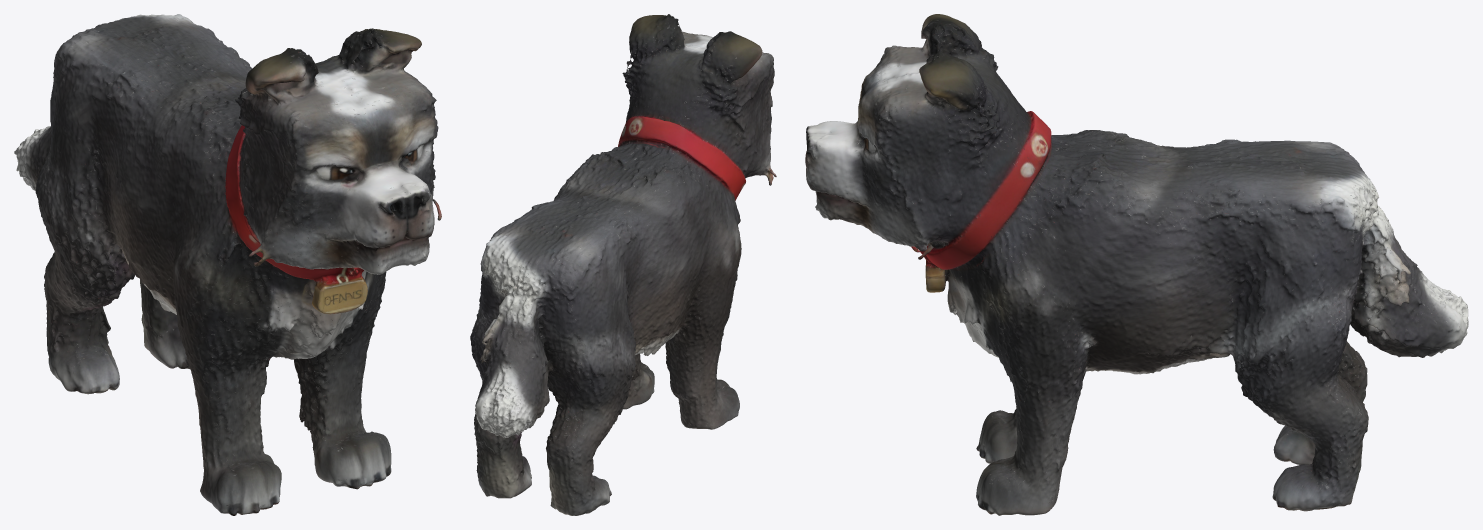
File: dennis-walk.glb
3 renders of one model, left to right at view 1: azimuth 30°, elevation 25°; view 2: azimuth 150°, elevation 25°; view 3: azimuth 270°, elevation 25°, orthographic. The views are drawn at different scales.
Bounding box in the file's own units: 0.6692 × 1.49 × 2.
Materials: 1 (1 with a texture image).
